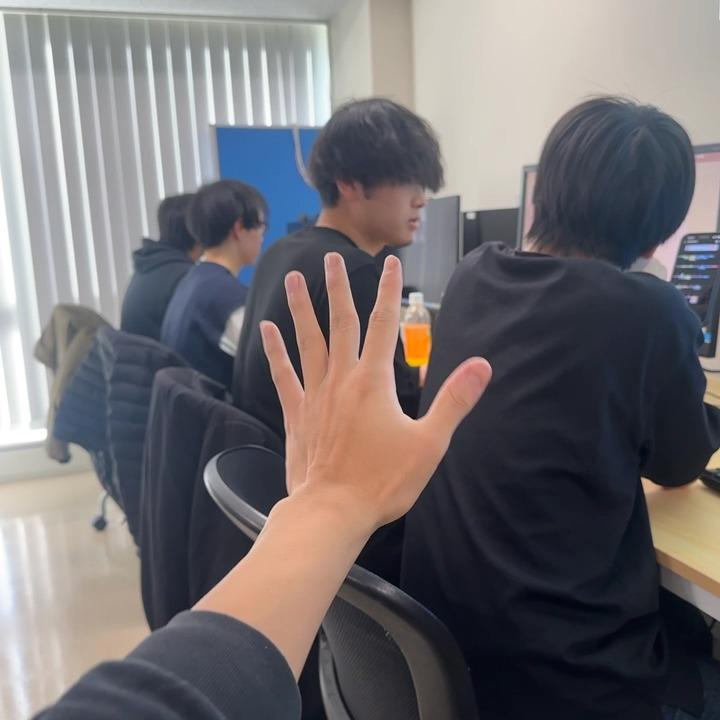without_gloves: (162, 216, 493, 531)
